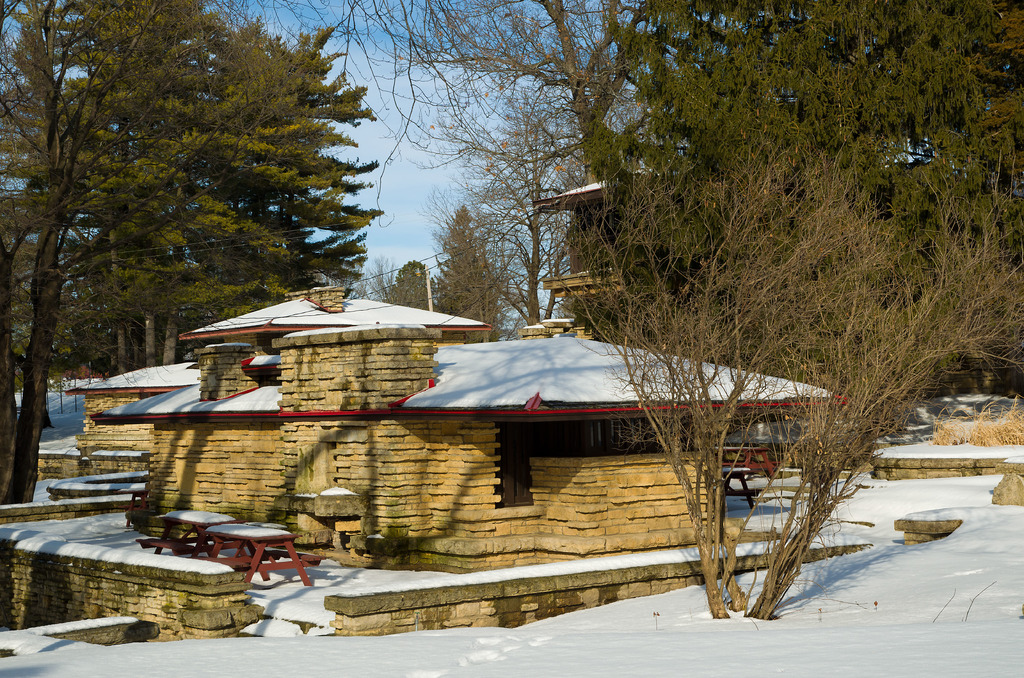Tree: (0, 0, 1023, 620)
